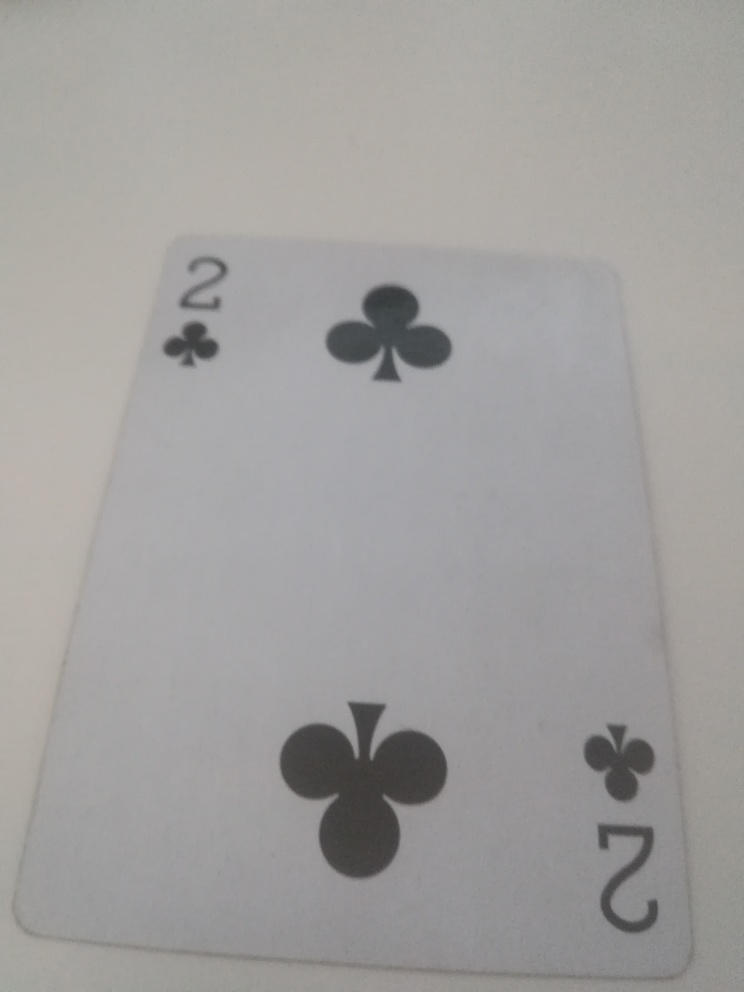2C: (159, 246, 236, 377)
